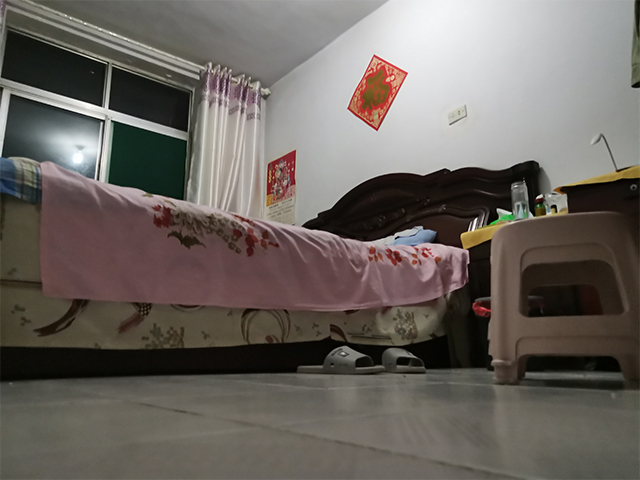bed: (1, 157, 542, 383)
curtain: (191, 60, 274, 217)
slippers: (300, 338, 382, 371), (379, 348, 428, 377)
stool: (485, 208, 640, 387)
